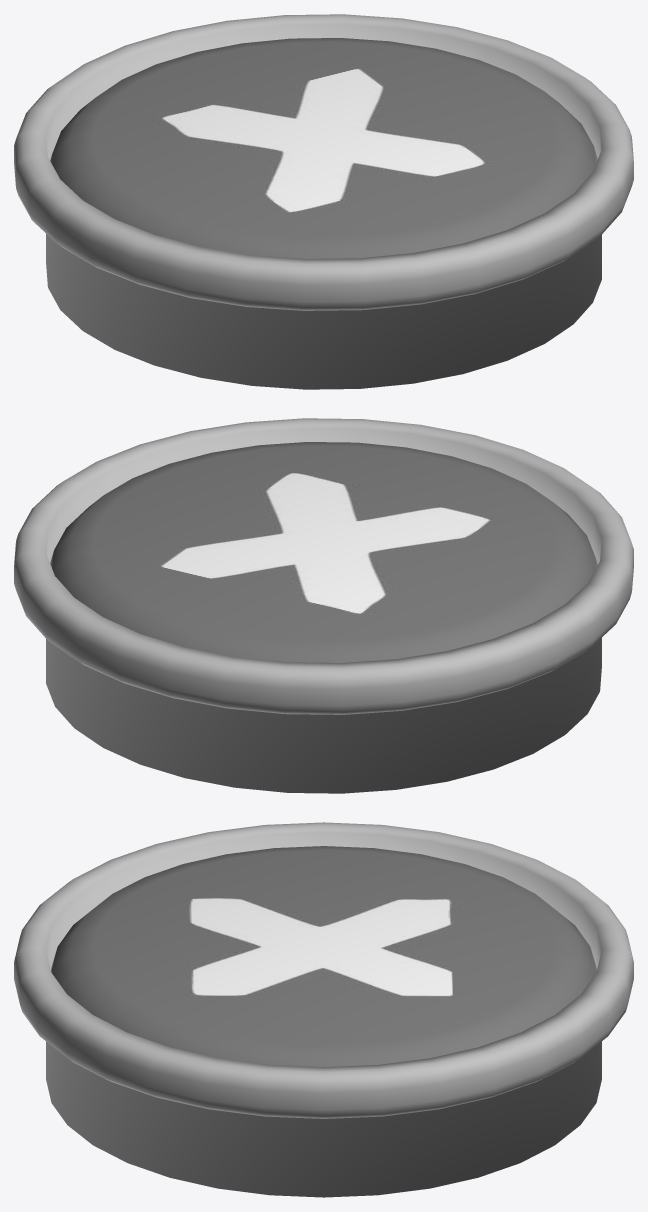
File: ButonRenksiz.fbx
3 renders of one model, top to bottom at view 1: azimuth 30°, elevation 25°; view 2: azimuth 150°, elevation 25°; view 3: azimuth 270°, elevation 25°, orthographic.
Parts seen in each view (by area): view 1: Buton Renksiz; view 2: Buton Renksiz; view 3: Buton Renksiz.
Boxes of the visible parts, x1,y1,x2,y2 form: Buton Renksiz: (14,14,633,389); Buton Renksiz: (14,418,633,793); Buton Renksiz: (14,822,633,1197).
Size of the model in its own units: 223 by 52.53 by 223.
Materials: 3 (1 with a texture image).
